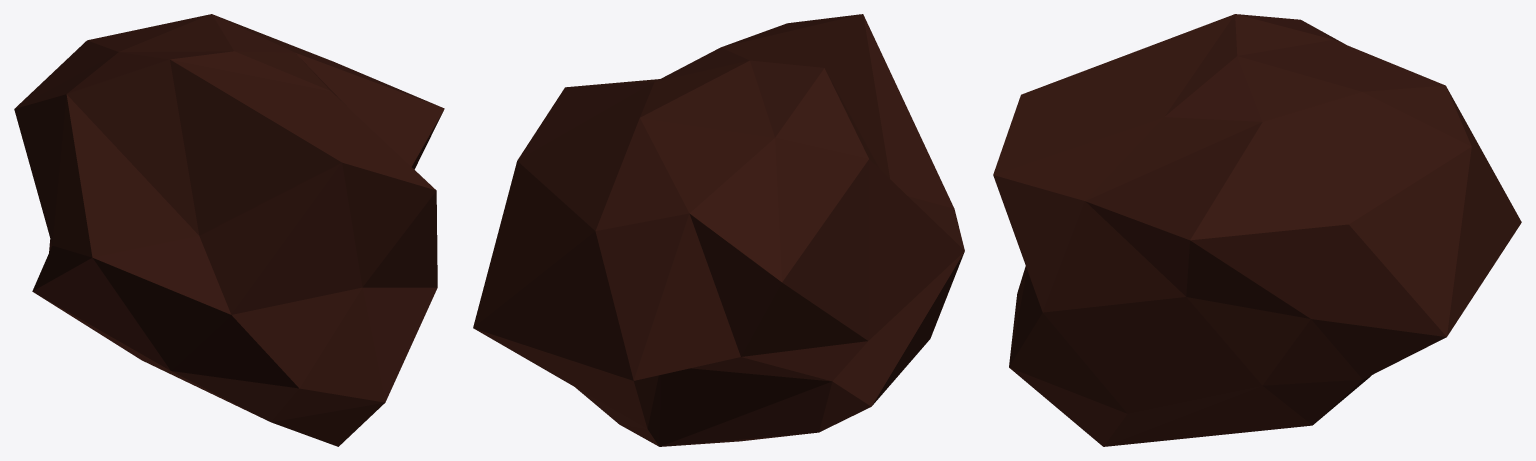
The model's file is Asteroid.glb.
The picture shows the model from 3 angles, left to right: view 1: azimuth 30°, elevation 25°; view 2: azimuth 150°, elevation 25°; view 3: azimuth 270°, elevation 25°; orthographic projection. The views are drawn at different scales.
Parts seen in each view (by area): view 1: Icosphere; view 2: Icosphere; view 3: Icosphere.
Boxes of the visible parts, <box> form: Icosphere: <box>14,14,444,446</box>; Icosphere: <box>473,14,964,446</box>; Icosphere: <box>993,14,1521,446</box>.
Size of the model in its own units: 26.21 by 25.9 by 32.67.
